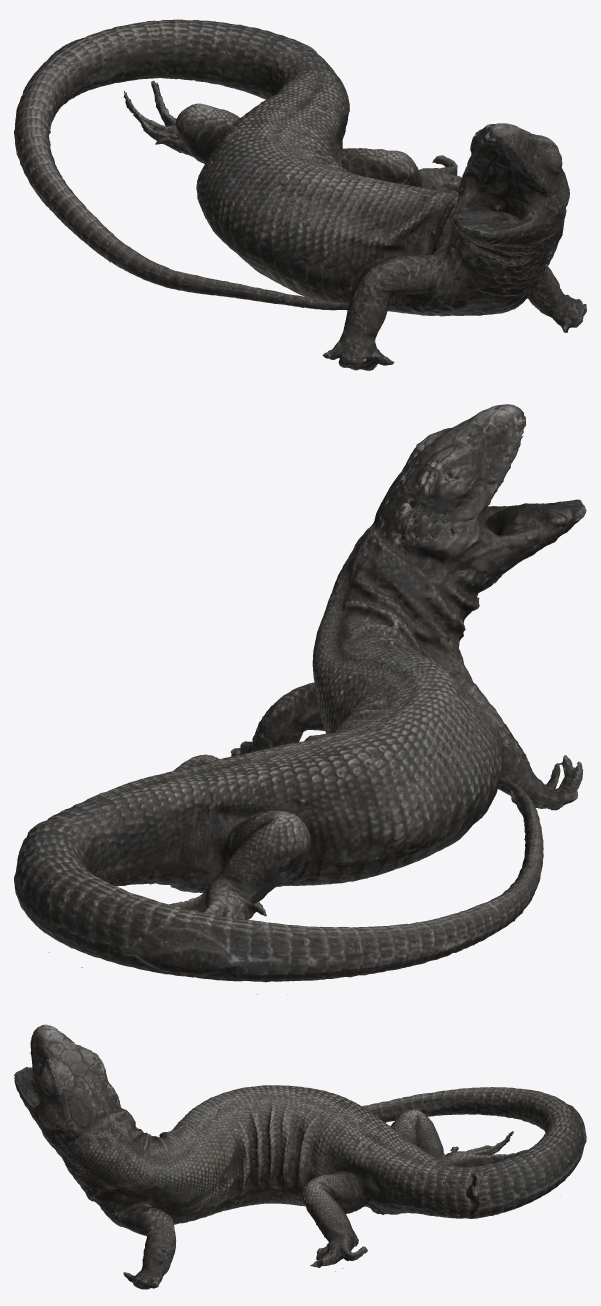
The model's file is preview.glb.
3 renders of one model, top to bottom at view 1: azimuth 30°, elevation 25°; view 2: azimuth 150°, elevation 25°; view 3: azimuth 270°, elevation 25°, orthographic. The views are drawn at different scales.
Parts seen in each view (by area): view 1: Stereo textured mesh_Material0_0; view 2: Stereo textured mesh_Material0_0; view 3: Stereo textured mesh_Material0_0.
Boxes of the visible parts, x1,y1,x2,y2 form: Stereo textured mesh_Material0_0: (14, 19, 586, 370); Stereo textured mesh_Material0_0: (14, 404, 586, 994); Stereo textured mesh_Material0_0: (14, 1024, 586, 1289).
Bounding box in the file's own units: 0.2469 × 0.1759 × 0.43.
Materials: 1 (1 with a texture image).
